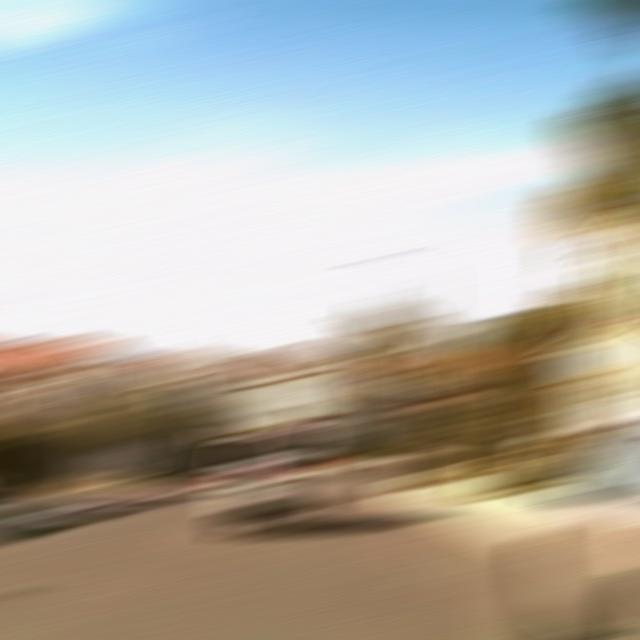stop: (412, 396, 451, 413)
